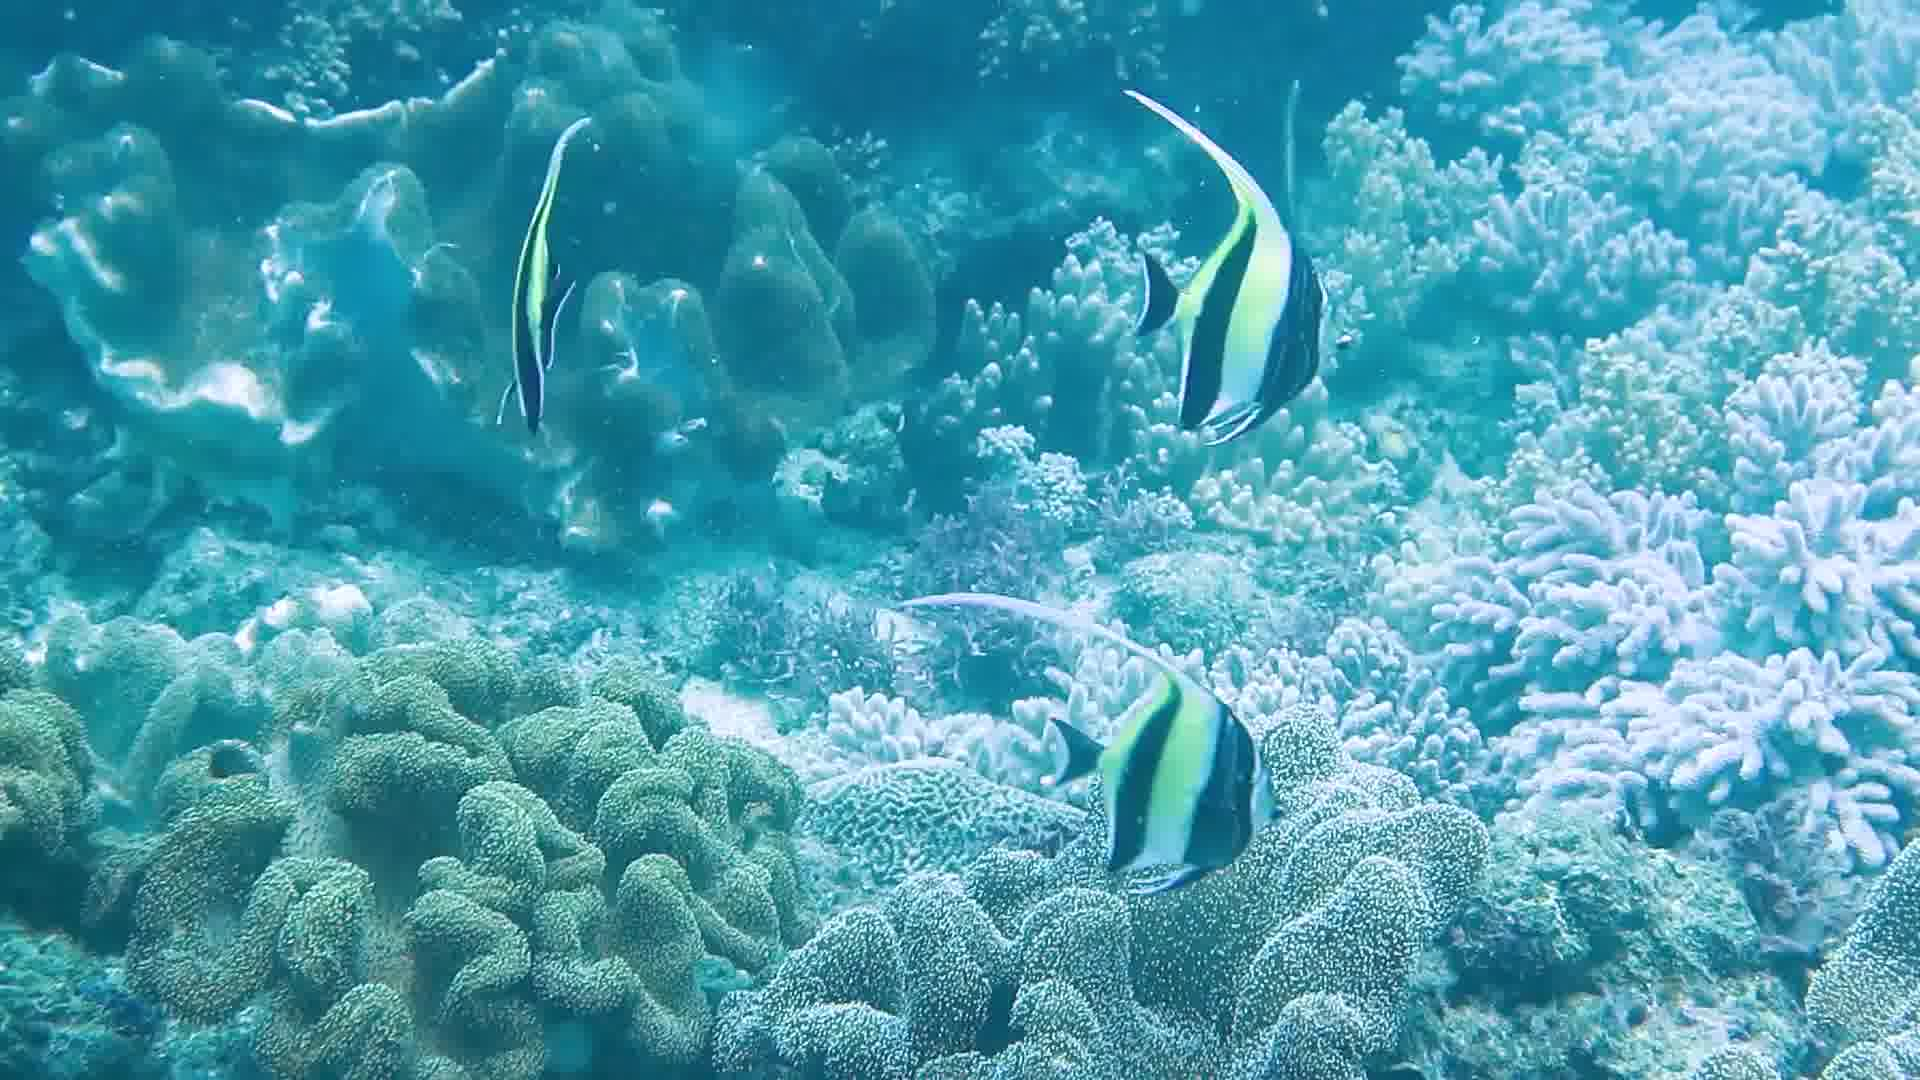Zanclus cornutus: (1044, 615, 1292, 886), (1127, 150, 1345, 444), (446, 161, 593, 433)
